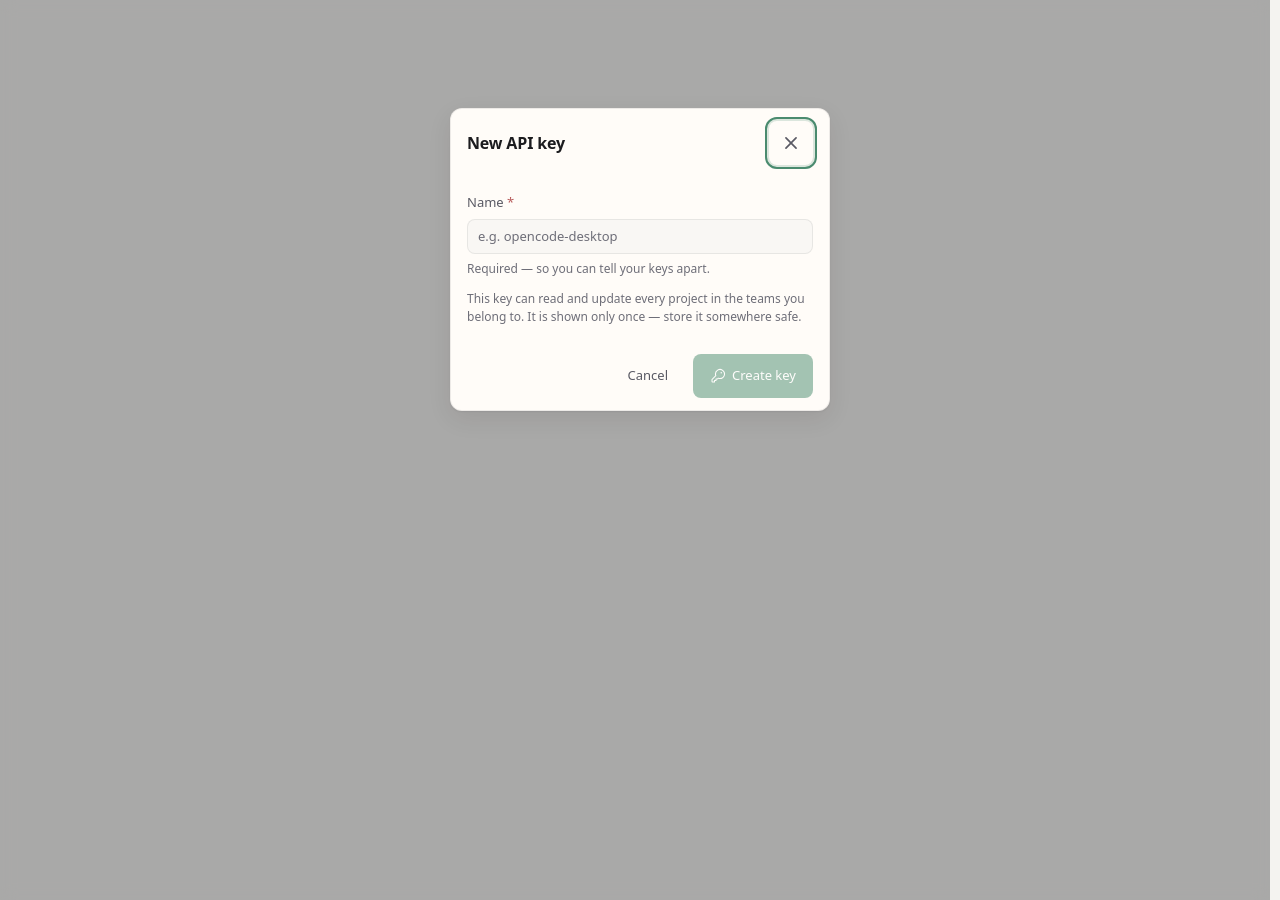
NewKeyModal › disables the create button until a name is provided
Expected: the button "Create key" is disabled, [693, 354, 813, 398]
Type "ci-runner" into the field labelled "Name *".
click(640, 236); type("ci-runner")  # box [467, 218, 813, 254]
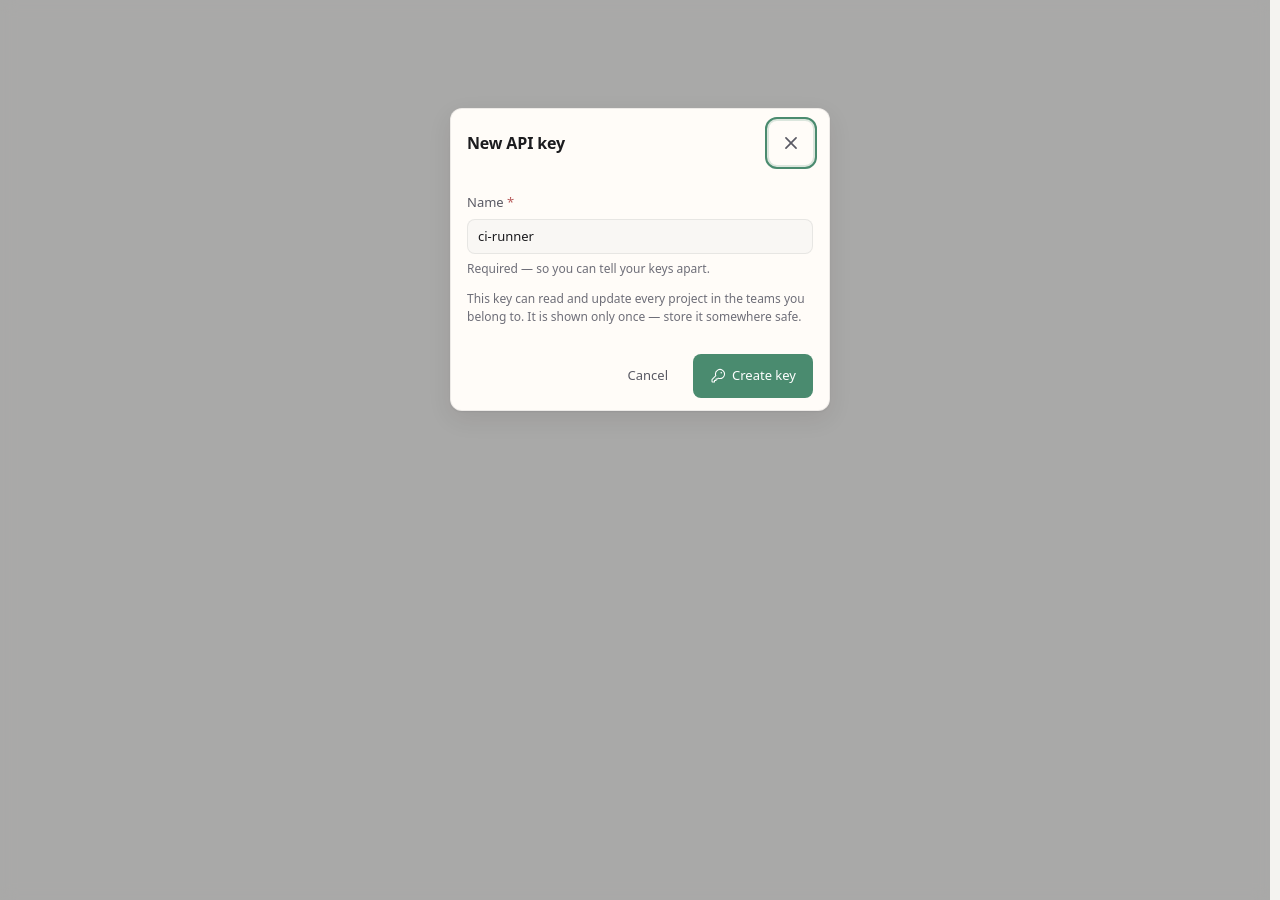
Now the button "Create key" is enabled, box [693, 354, 813, 398]
